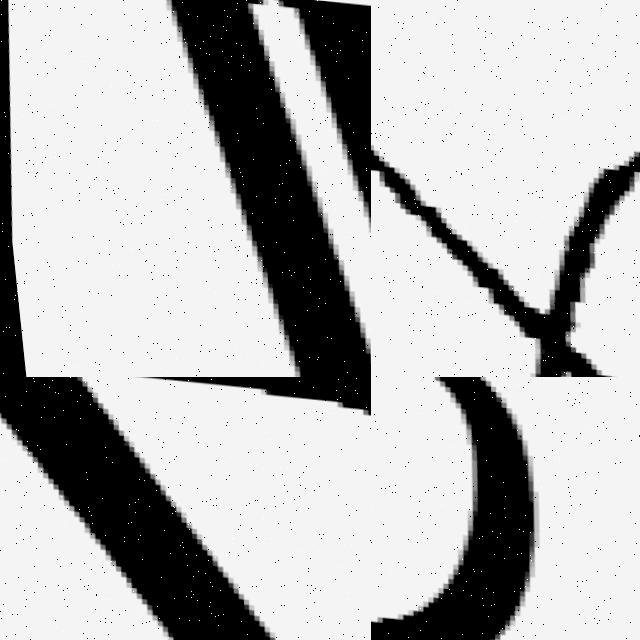6: (371, 377, 580, 640)
N: (83, 0, 371, 377)
X: (371, 46, 640, 377)
Z: (0, 377, 371, 640)
